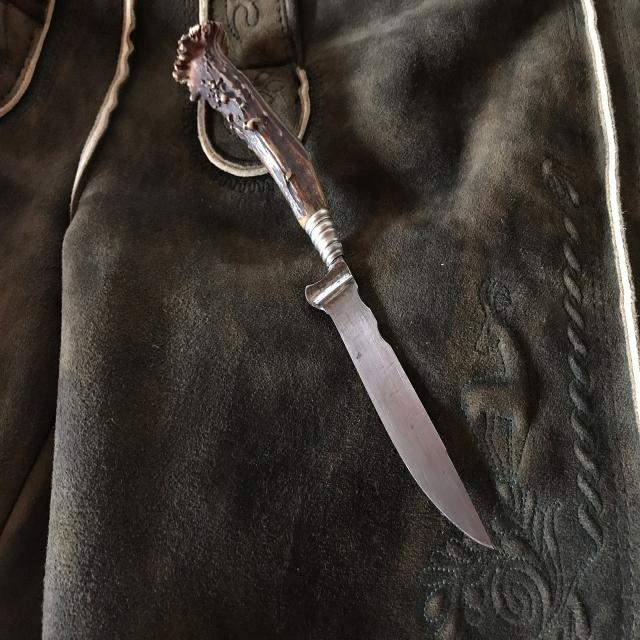knife: (174, 20, 496, 550)
